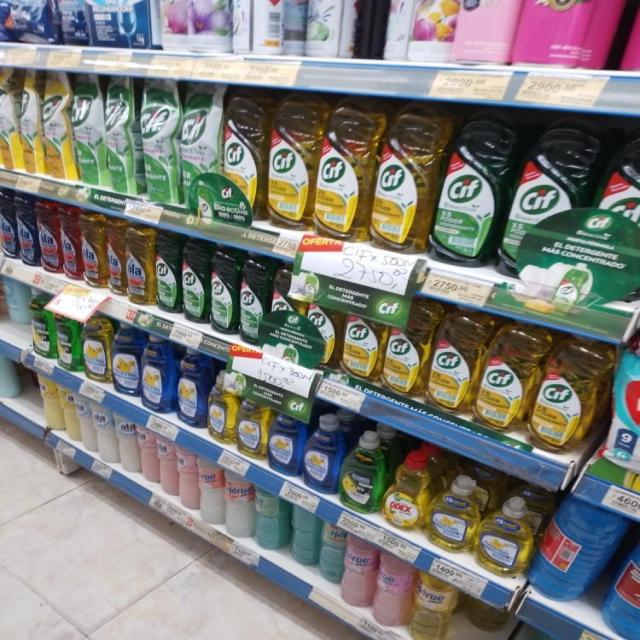ala_conc_amarillo: (126, 225, 154, 306), (81, 214, 105, 290), (106, 220, 125, 297)
ala_conc_azul: (16, 194, 36, 267), (0, 188, 15, 262)
ala_conc_rojo: (37, 200, 59, 274), (60, 206, 79, 282)
ala_crem_blanco: (95, 400, 116, 464), (117, 412, 138, 473)
ala_crem_rosado: (177, 446, 198, 511), (158, 434, 177, 498), (139, 426, 157, 484)
cif_conc_bot_amarilla: (373, 102, 433, 253), (315, 98, 370, 242), (532, 341, 599, 454), (266, 94, 314, 230), (476, 325, 530, 431), (222, 90, 264, 222), (428, 312, 474, 412), (384, 296, 426, 396), (343, 312, 381, 380)
cif_conc_botella_verde: (504, 118, 584, 284), (433, 110, 502, 268), (585, 125, 640, 291), (239, 256, 267, 346), (211, 248, 238, 336), (182, 240, 209, 324), (156, 234, 180, 314)
heroe: (412, 571, 457, 640), (342, 536, 375, 608), (225, 471, 253, 539), (199, 458, 224, 526)
magistral_con_amarillo: (478, 496, 532, 578), (429, 474, 477, 553), (209, 370, 236, 444), (238, 399, 268, 460)
magistral_con_azul: (304, 413, 340, 493), (142, 334, 175, 414), (177, 347, 207, 429), (269, 404, 302, 476), (112, 321, 140, 396)
